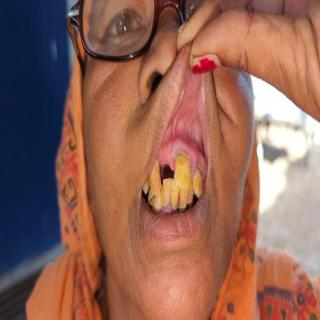Gum Swelling: (157, 147, 206, 175), (154, 205, 176, 217)
calculus: (171, 146, 192, 166), (150, 158, 162, 190), (153, 195, 165, 213), (178, 193, 187, 216), (195, 166, 202, 190), (162, 193, 171, 211), (170, 196, 178, 214)
plaque: (150, 161, 162, 193), (171, 185, 181, 205), (162, 184, 172, 202), (153, 192, 163, 210), (188, 182, 194, 210), (180, 184, 188, 202), (143, 175, 151, 193), (147, 192, 154, 212), (202, 169, 206, 187)
stains: (174, 155, 191, 189), (192, 176, 204, 192)
